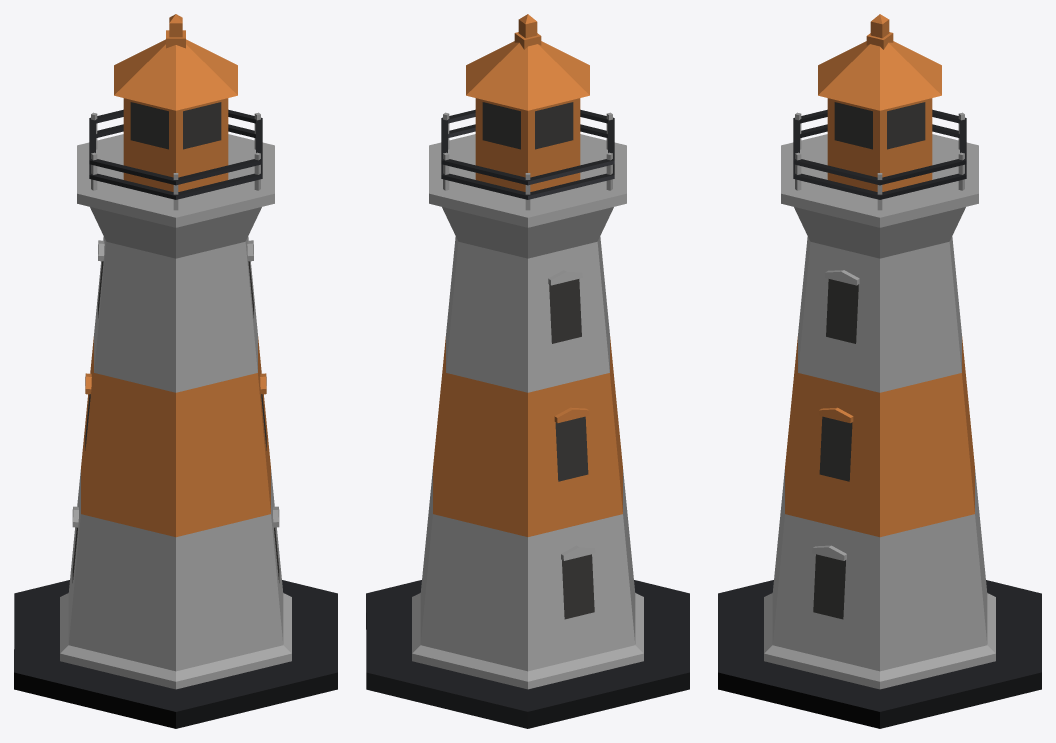
Rendered from Lighthouse001.fbx.
3 renders of one model, left to right at view 1: azimuth 30°, elevation 25°; view 2: azimuth 150°, elevation 25°; view 3: azimuth 270°, elevation 25°, orthographic.
Visible parts, largest first — view 1: polySurface809; view 2: polySurface809; view 3: polySurface809.
Boxes of the visible parts, box(x1,y1,x2,y2) form: polySurface809: box(14, 14, 337, 728); polySurface809: box(366, 14, 689, 728); polySurface809: box(718, 14, 1041, 728).
Bounding box in the file's own units: 468 × 878 × 405.
